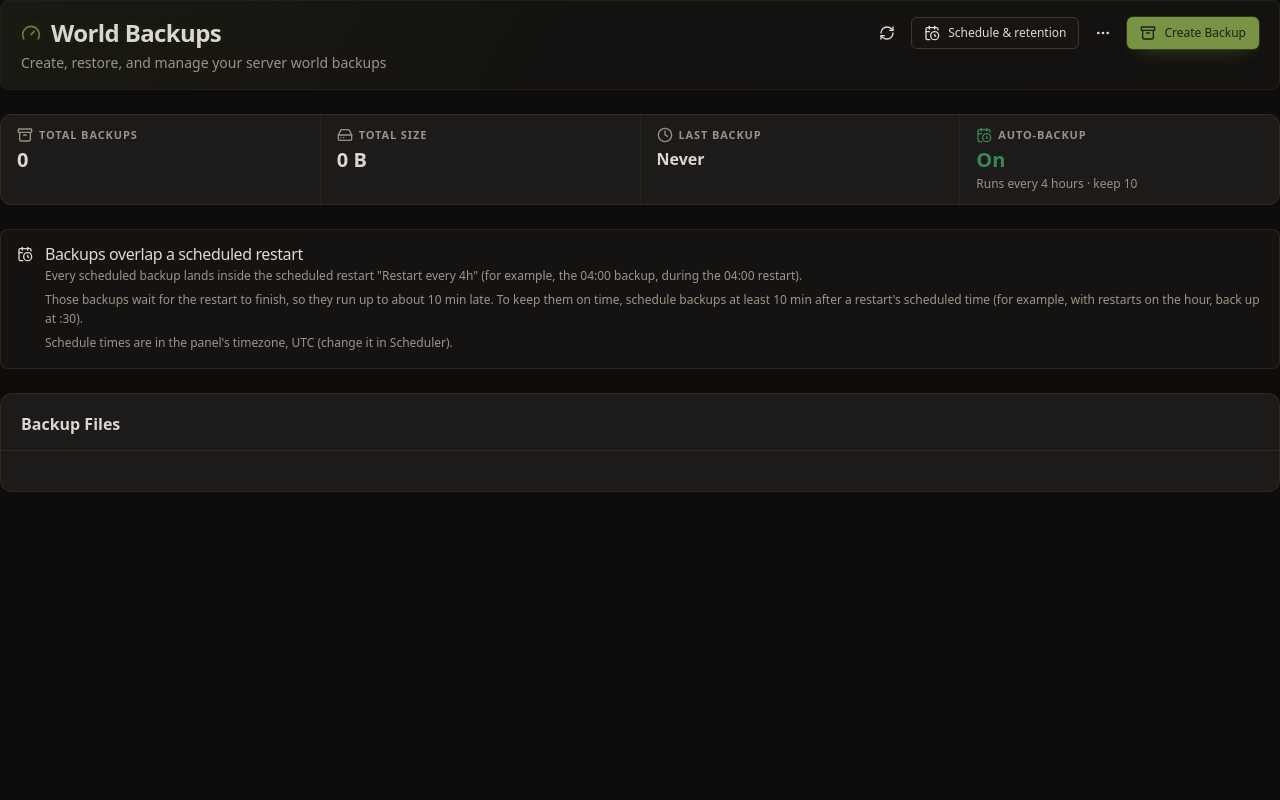
Backups.tsx: scheduled backups and scheduled restarts › names the timezone of the overlap times -- once, wherever the notice is
expect the heading "Backups overlap a scheduled restart" is shown: met, box [45, 243, 303, 265]
expect the text "Schedule times are in the panel's timezone, UTC" is shown once: met, box [45, 334, 453, 350]
Click the button "Schedule & retention" at (995, 33), box [911, 17, 1079, 49]
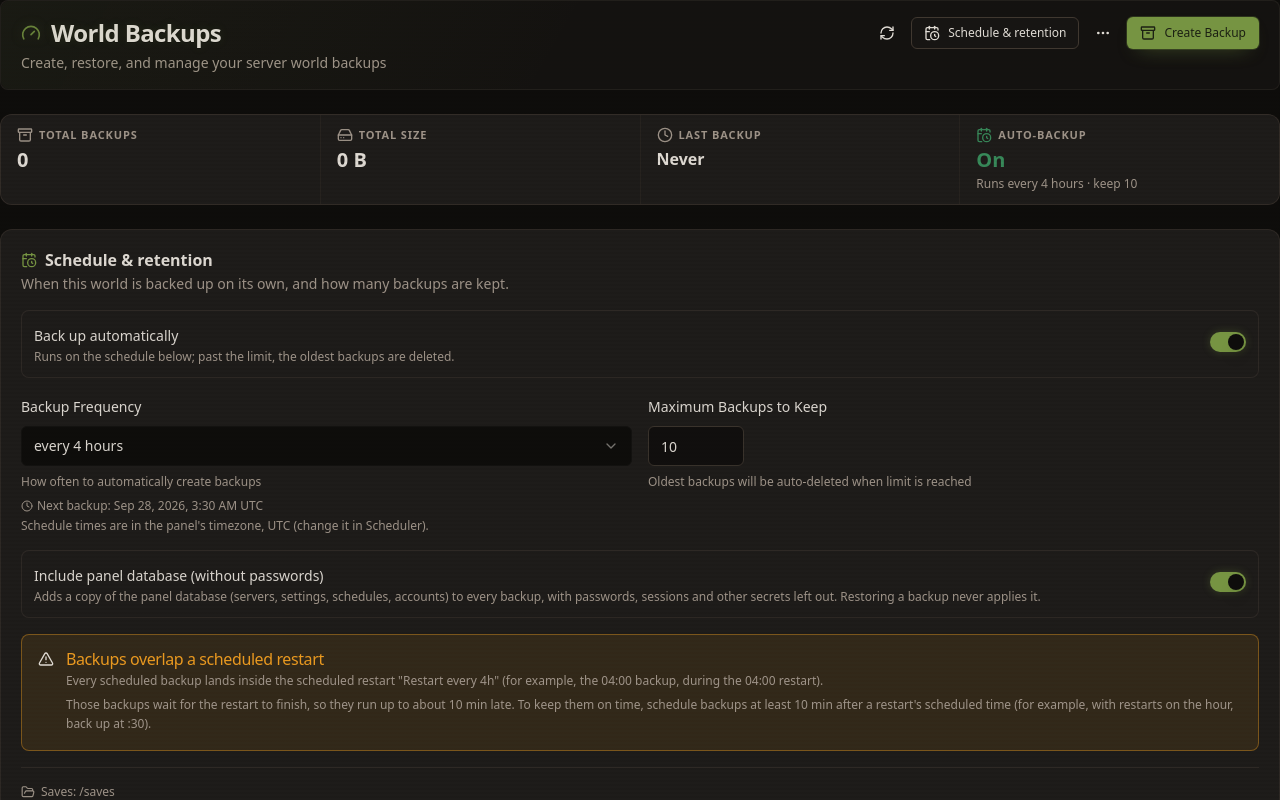
expect the heading "Backups overlap a scheduled restart" is shown: met, box [66, 648, 324, 670]
expect the text "Next backup: Sep 28, 2026, 3:30 AM UTC" is shown: met, box [21, 497, 263, 514]
